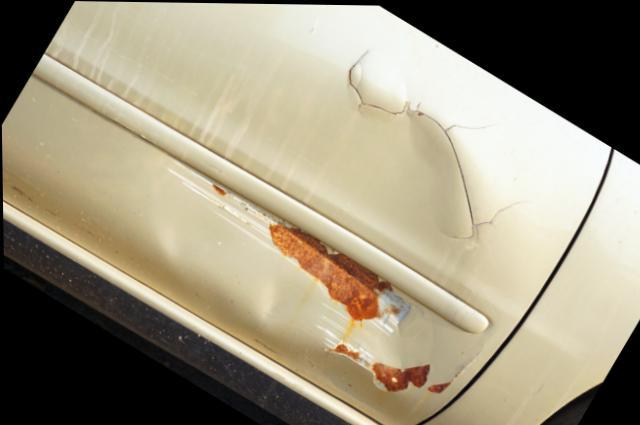dent: (151, 68, 483, 380)
